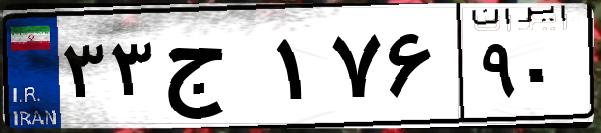0: (525, 38, 570, 115)
1: (270, 28, 330, 110)
3: (57, 26, 110, 100), (110, 28, 158, 98)
6: (385, 28, 445, 110)
7: (330, 28, 385, 110)
9: (475, 38, 525, 113)
ج: (158, 20, 270, 120)
